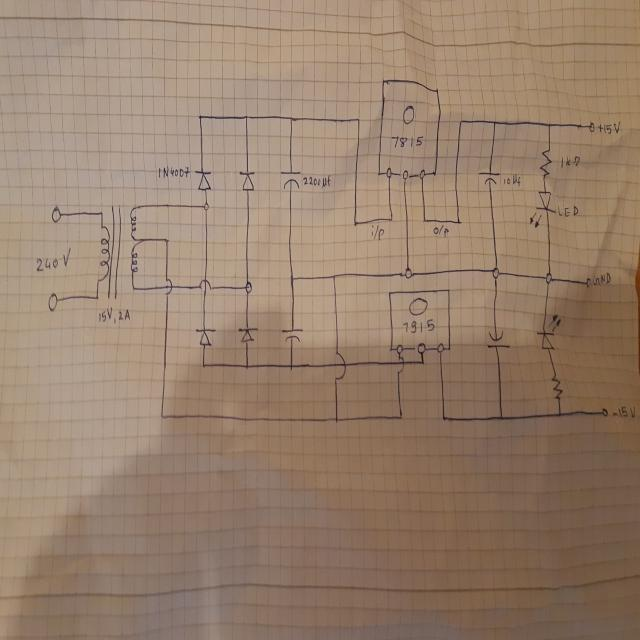capacitor: (484, 328, 509, 353), (475, 168, 502, 189), (280, 167, 302, 192), (280, 325, 304, 344)
crossover: (332, 349, 347, 383), (198, 277, 213, 293), (164, 277, 174, 297), (396, 355, 405, 375)
diode: (528, 189, 556, 229), (535, 313, 562, 351), (194, 324, 217, 350), (236, 323, 259, 346), (193, 169, 213, 194), (238, 168, 256, 194)
junction: (544, 270, 554, 286), (491, 265, 501, 279), (404, 266, 413, 280), (245, 280, 252, 295), (202, 202, 209, 212), (556, 409, 563, 419), (289, 275, 296, 285), (546, 120, 552, 130), (498, 413, 504, 423), (244, 362, 250, 371), (288, 362, 294, 371), (352, 219, 358, 227), (458, 118, 464, 126), (201, 361, 206, 370), (356, 115, 361, 124), (456, 218, 462, 225), (492, 118, 497, 126), (334, 416, 339, 424), (164, 236, 169, 244), (289, 115, 294, 123), (244, 113, 249, 121), (398, 412, 403, 420), (420, 359, 425, 366), (198, 113, 202, 121), (160, 412, 164, 420), (442, 414, 446, 422), (423, 216, 427, 224), (389, 215, 393, 222), (332, 273, 336, 280)
resistor: (539, 147, 552, 179), (550, 373, 563, 401)
terminal: (46, 292, 58, 314), (51, 205, 62, 225), (600, 407, 609, 418), (587, 121, 595, 133), (585, 277, 591, 287)
text: (34, 247, 71, 275), (388, 133, 425, 153), (156, 163, 191, 182), (98, 306, 130, 324), (611, 402, 637, 423), (402, 317, 436, 333), (302, 173, 332, 191), (556, 202, 580, 219), (598, 120, 622, 136), (559, 153, 581, 170), (591, 271, 613, 288), (502, 172, 522, 188), (431, 223, 450, 239), (370, 224, 384, 242)
transformer: (94, 204, 144, 299)
